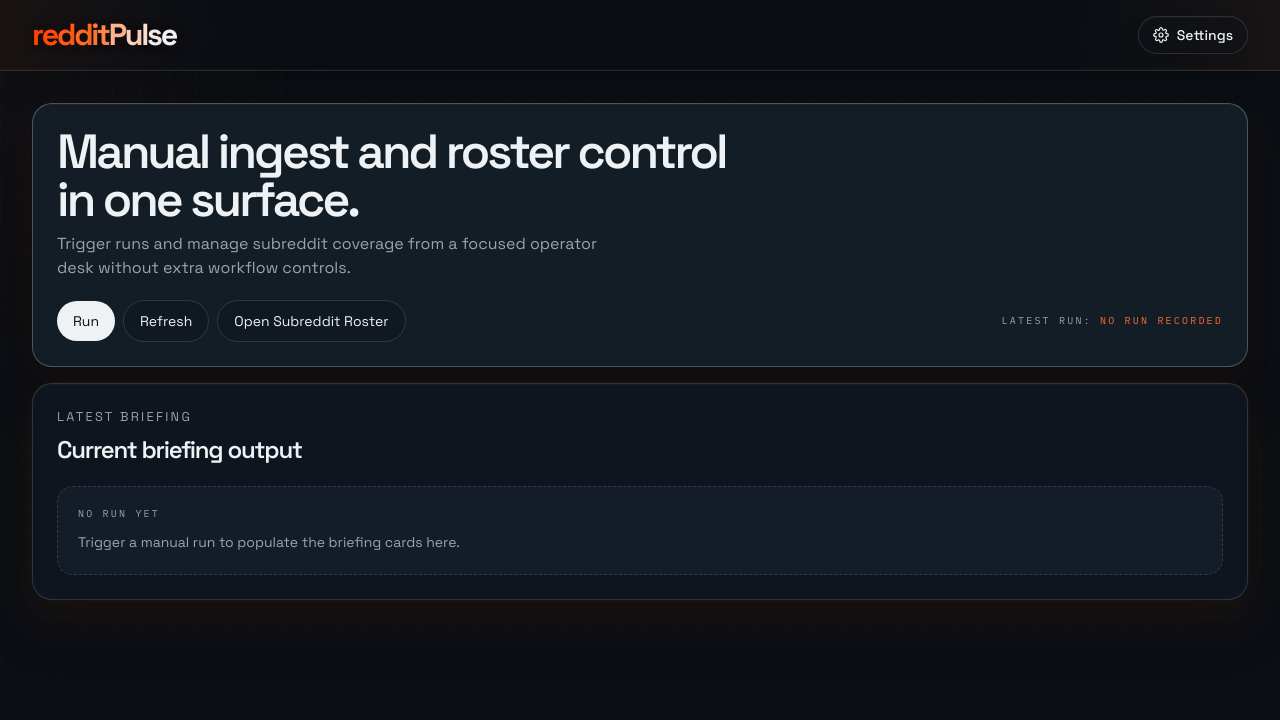
it: DashboardApp › replaces the optimistic run with the persisted dashboard snapshot after a run completes
Click the button "Run" at (86,321), box [57,301,115,341]
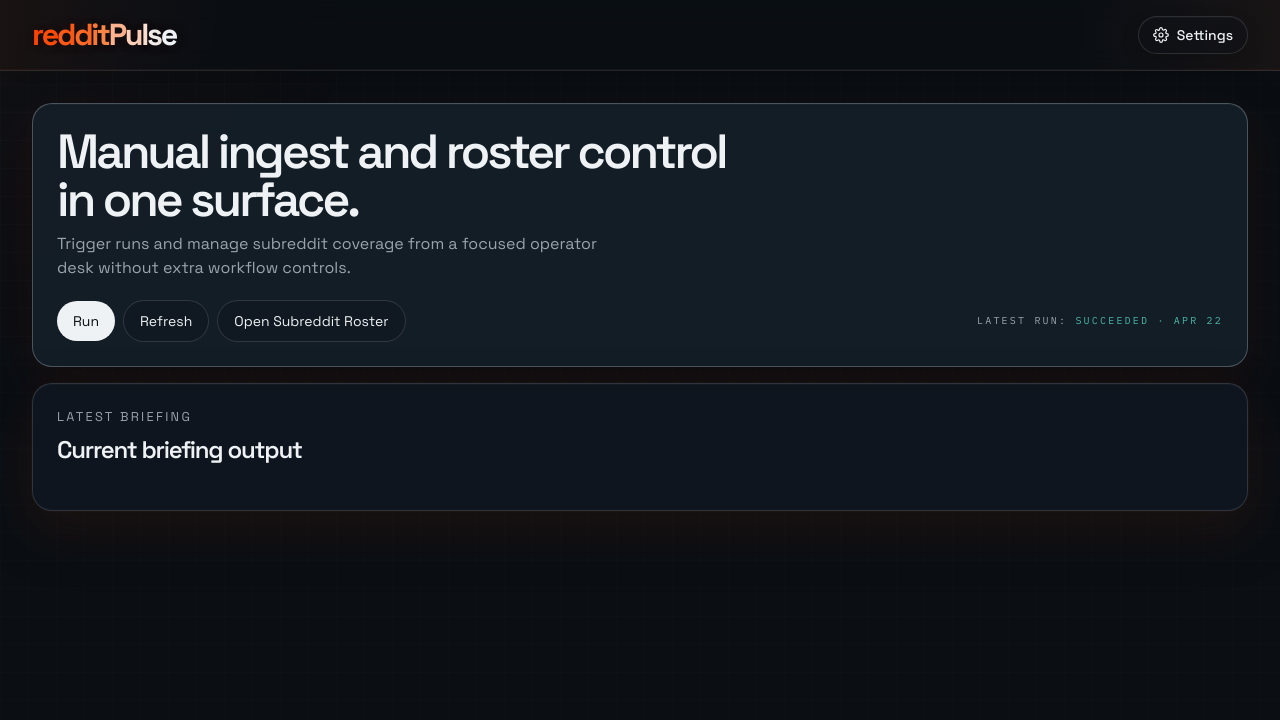
Expected: the text "Succeeded · Apr 22" is shown, [1075,314,1223,327]
